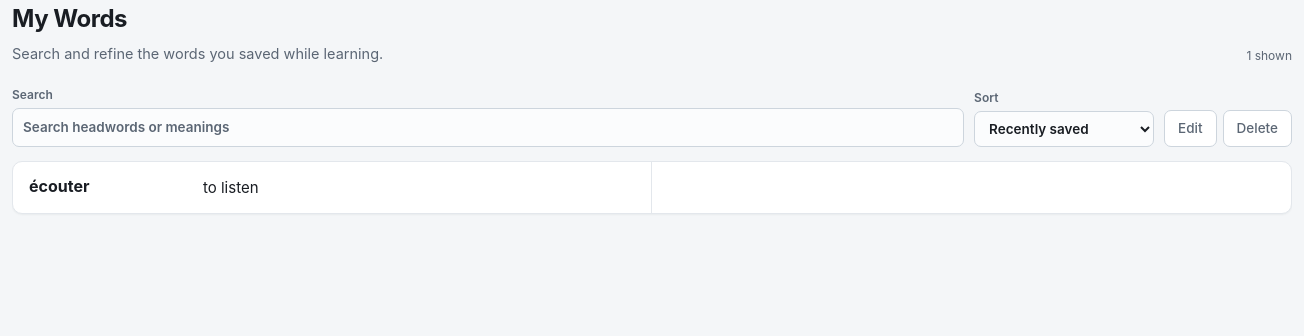
Test: VocabularyPage › keeps successful rows visible when a refresh fails and retries contextually
Expected: the heading "écouter" is shown, 29,176 -> 90,196
Select "Alphabetical" in the dropdown at (1064, 129), box 974,111 -> 1154,147
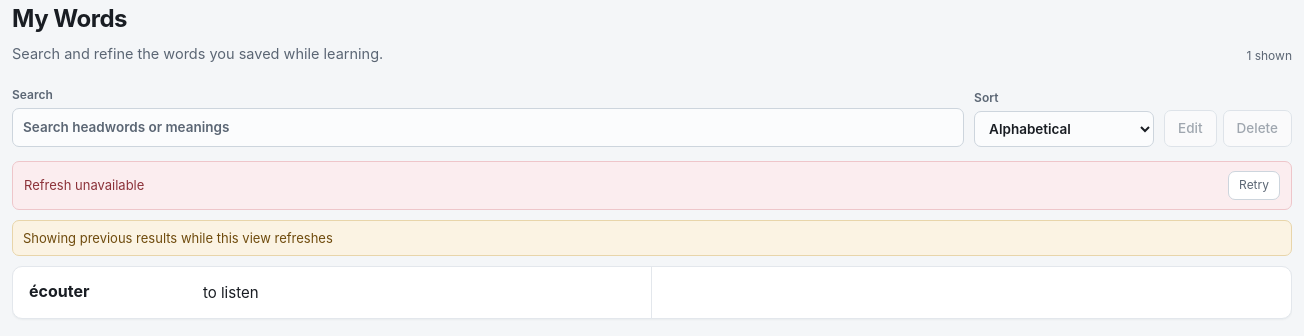
Result: the message "Refresh unavailable Retry" is shown at 12,161 -> 1292,210
Result: the message "Showing previous results while this view refreshes" is shown at 12,220 -> 1292,256
Result: the button "Edit" is disabled at 1164,110 -> 1217,147
Click the button "Retry".
click(1254, 186)  # box 1228,171 -> 1280,200
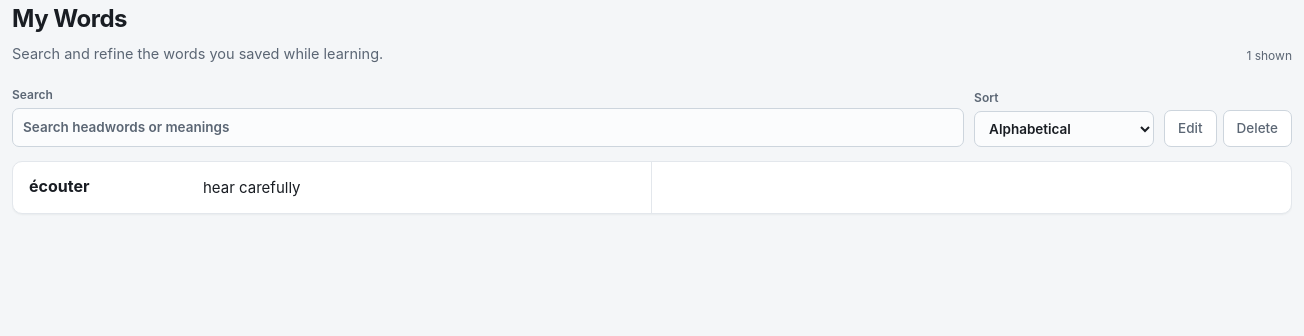
Result: the text "hear carefully" is shown at 203,178 -> 300,197
Result: the text "Showing previous results while this view refreshes" is gone
Result: the button "Edit" is enabled at 1164,110 -> 1217,147
